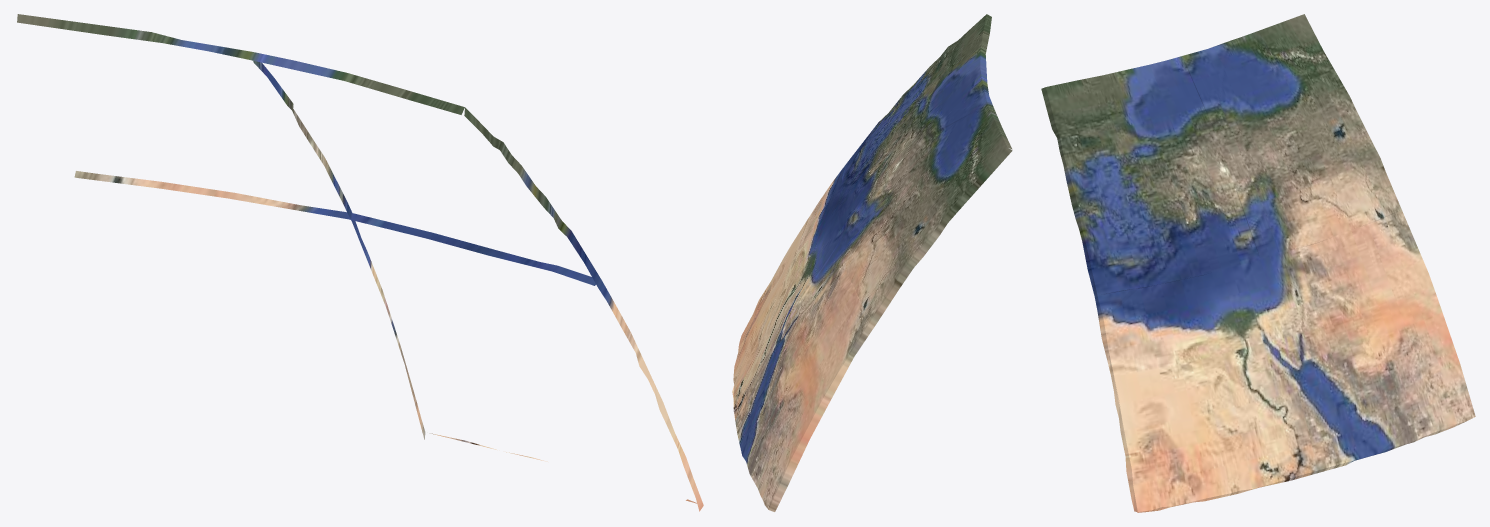
3 views of the same model, side by side, from view 1: azimuth 30°, elevation 25°; view 2: azimuth 150°, elevation 25°; view 3: azimuth 270°, elevation 25° (orthographic). The views are drawn at different scales.
Bounding box in the file's own units: 2288972 × 2105973 × 2471604.
Materials: 1 (1 with a texture image).
